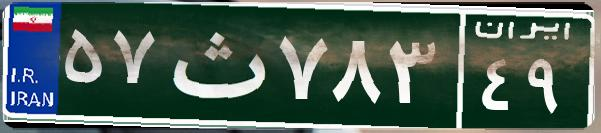3: (385, 28, 445, 110)
4: (475, 38, 525, 113)
5: (57, 26, 110, 107)
7: (273, 28, 330, 110), (110, 28, 158, 105)
8: (330, 28, 385, 110)
9: (525, 38, 570, 115)
ث: (158, 15, 273, 115)
